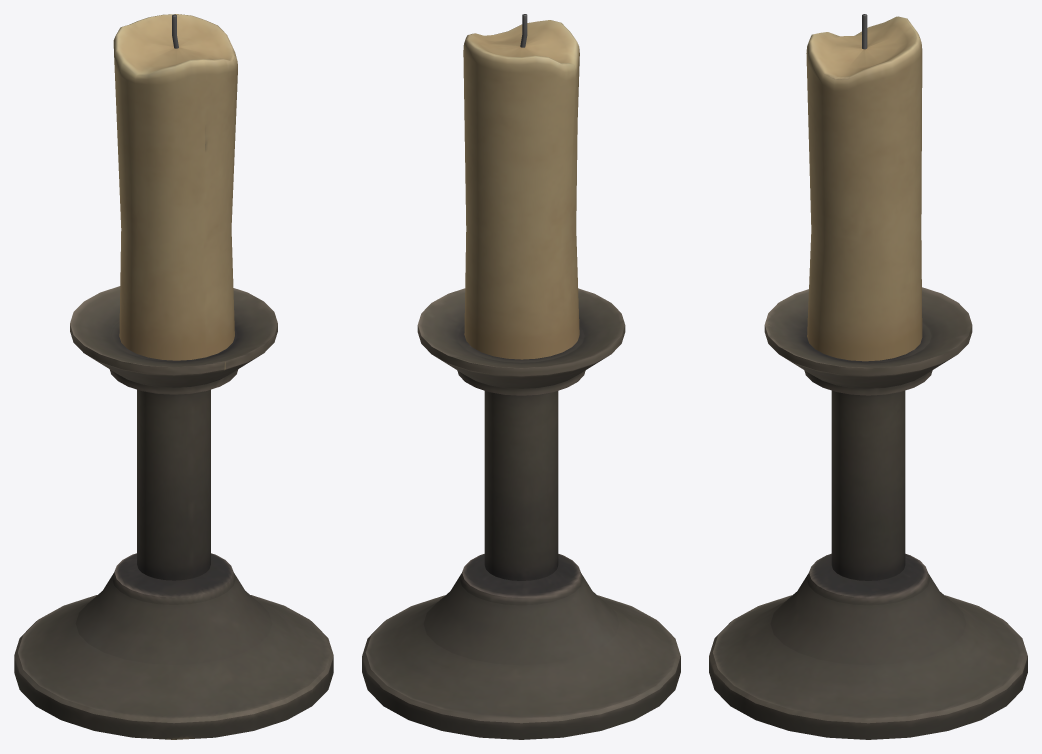
The model's file is SM_Candle.fbx.
3 renders of one model, left to right at view 1: azimuth 30°, elevation 25°; view 2: azimuth 150°, elevation 25°; view 3: azimuth 270°, elevation 25°, orthographic.
Visible parts, largest first — view 1: SM_Candle_LOD0; view 2: SM_Candle_LOD0; view 3: SM_Candle_LOD0.
Boxes of the visible parts, left/top/right/bottom form: SM_Candle_LOD0: left=14, top=14, right=333, bottom=739; SM_Candle_LOD0: left=362, top=14, right=680, bottom=739; SM_Candle_LOD0: left=709, top=14, right=1027, bottom=739.
Size of the model in its own units: 16.49 by 16.49 by 37.49.
1 material, 1 textured.
